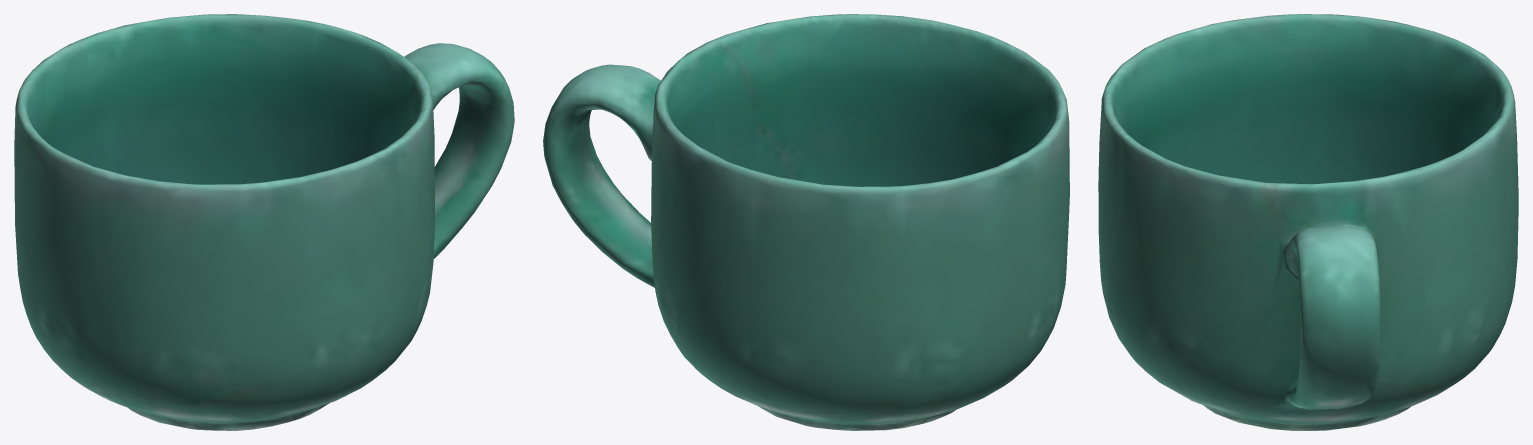
Rendered from Cole_Hardware_Mug_Classic_Blue-high.glb.
The picture shows the model from 3 angles, left to right: view 1: azimuth 30°, elevation 25°; view 2: azimuth 150°, elevation 25°; view 3: azimuth 270°, elevation 25°; orthographic projection.
Visible parts, largest first — view 1: Cole_Hardware_Mug_Classic_Blue; view 2: Cole_Hardware_Mug_Classic_Blue; view 3: Cole_Hardware_Mug_Classic_Blue.
Part boxes in pixels (left/top/right/bottom): Cole_Hardware_Mug_Classic_Blue: left=14, top=14, right=514, bottom=430; Cole_Hardware_Mug_Classic_Blue: left=543, top=14, right=1069, bottom=430; Cole_Hardware_Mug_Classic_Blue: left=1098, top=14, right=1518, bottom=430.
Size of the model in its own units: 0.1654 by 0.0948 by 0.1255.
1 material, 1 textured.
